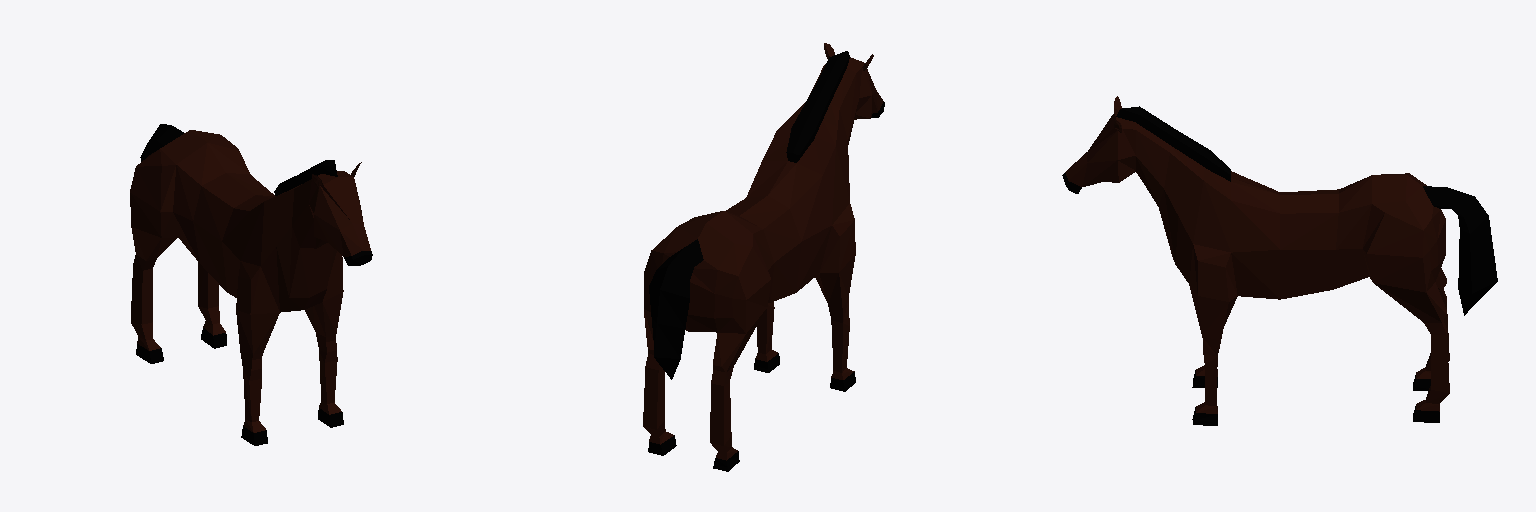
The model's file is HorseIdle.obj.
3 views of the same model, side by side, from view 1: azimuth 30°, elevation 25°; view 2: azimuth 150°, elevation 25°; view 3: azimuth 270°, elevation 25° (orthographic).
Visible parts, largest first — view 1: Horse; view 2: Horse; view 3: Horse.
Boxes of the visible parts, x1,y1,x2,y2 form: Horse: [130, 124, 372, 445]; Horse: [643, 43, 884, 471]; Horse: [1062, 96, 1497, 425].
Bounding box in the file's own units: 2.56 × 6.91 × 9.24.